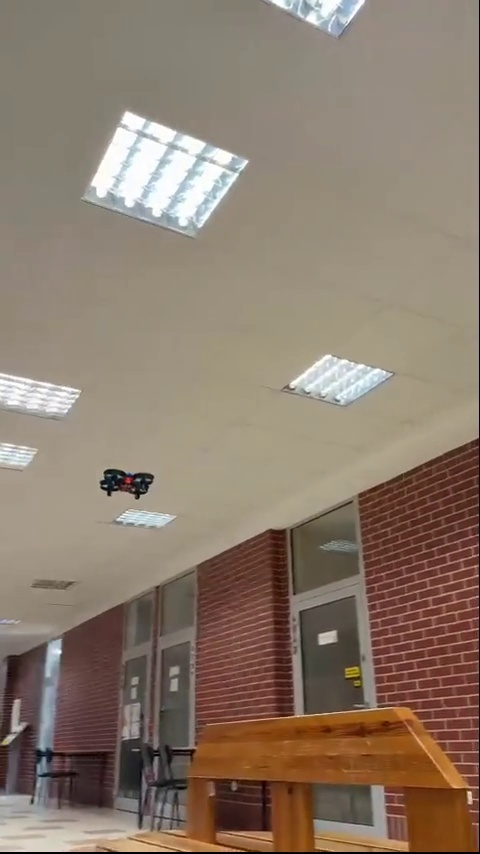drone: (94, 463, 164, 497)
